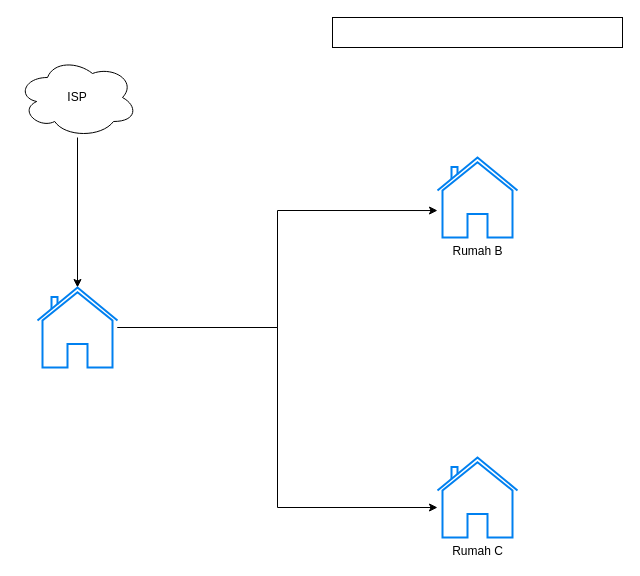
This 640x576 diagram has some shape labels left out. Here are the shapes that lost their labels. From the top down, the centre of each, then its label:
At pixel 477 32: "Perluasan Jaringan dan Proses bisnis di dalamnya".
At pixel 77 327: "Rumah A".
